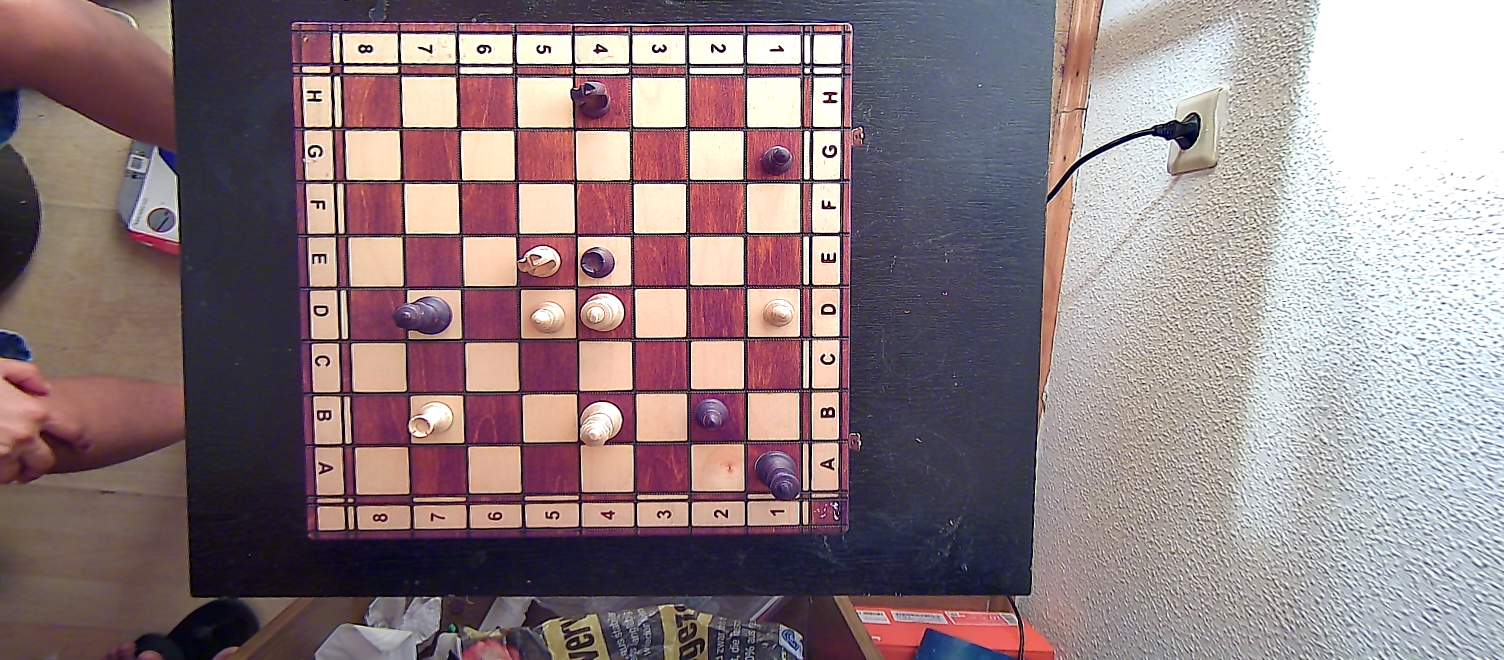black-bishop: (694, 395, 731, 431)
black-king: (751, 445, 802, 503)
black-knight: (566, 80, 612, 120)
black-pawn: (760, 143, 796, 174)
black-queen: (392, 292, 454, 337)
black-rook: (578, 245, 617, 278)
white-bishop: (526, 299, 569, 338)
white-king: (579, 289, 626, 334)
white-knight: (515, 242, 563, 281)
white-pawn: (761, 296, 796, 329)
white-queen: (576, 399, 626, 449)
white-rook: (404, 400, 455, 439)
